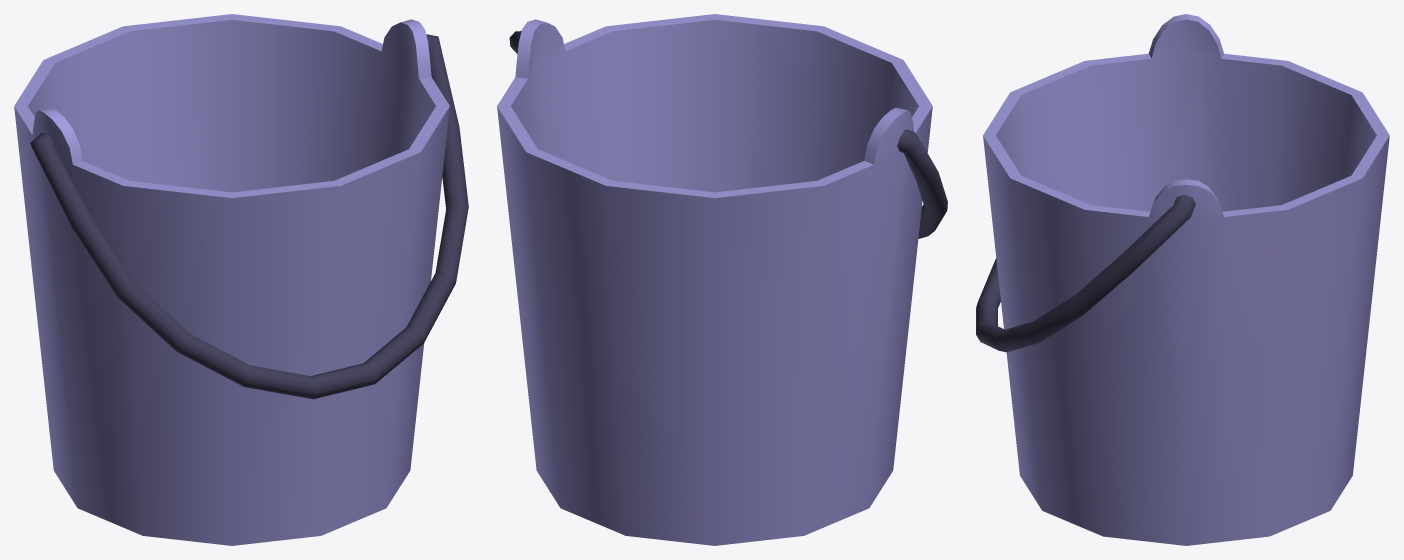
The model's file is bucket.fbx.
3 renders of one model, left to right at view 1: azimuth 30°, elevation 25°; view 2: azimuth 150°, elevation 25°; view 3: azimuth 270°, elevation 25°, orthographic. The views are drawn at different scales.
Visible parts, largest first — view 1: 圓形.004, Nurbs路徑; view 2: 圓形.004, Nurbs路徑; view 3: 圓形.004, Nurbs路徑.
Boxes of the visible parts, x1,y1,x2,y2 form: 圓形.004: (14, 14, 449, 545); Nurbs路徑: (30, 34, 468, 399); 圓形.004: (497, 14, 932, 545); Nurbs路徑: (509, 31, 947, 238); 圓形.004: (983, 14, 1389, 545); Nurbs路徑: (976, 194, 1195, 352).
Size of the model in its own units: 5.43 by 5.13 by 5.15.
